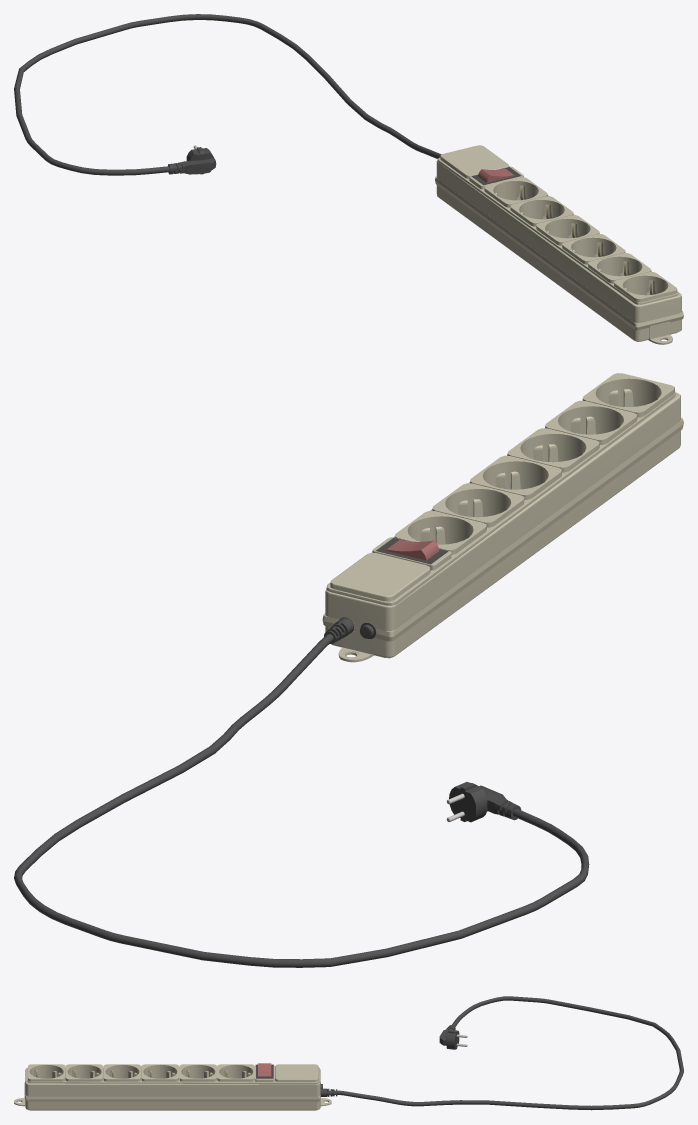
The model's file is maya2sketchfab.fbx.
3 renders of one model, top to bottom at view 1: azimuth 30°, elevation 25°; view 2: azimuth 150°, elevation 25°; view 3: azimuth 270°, elevation 25°, orthographic. The views are drawn at different scales.
Parts seen in each view (by area): view 1: polySurface103; view 2: polySurface103; view 3: polySurface103.
Part boxes in pixels (x1,y1,x2,y2): polySurface103: (14,14,683,344); polySurface103: (14,373,683,967); polySurface103: (14,996,683,1110).
Bounding box in the file's own units: 6.62 × 1.15 × 17.04.
